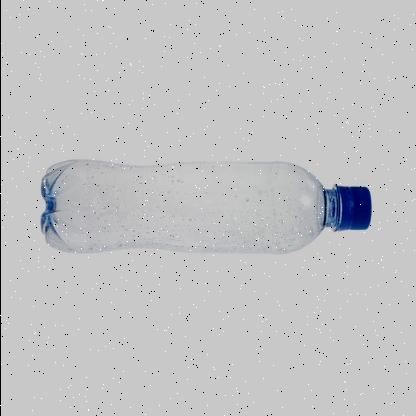Plastic Bottle: (31, 152, 376, 260)
